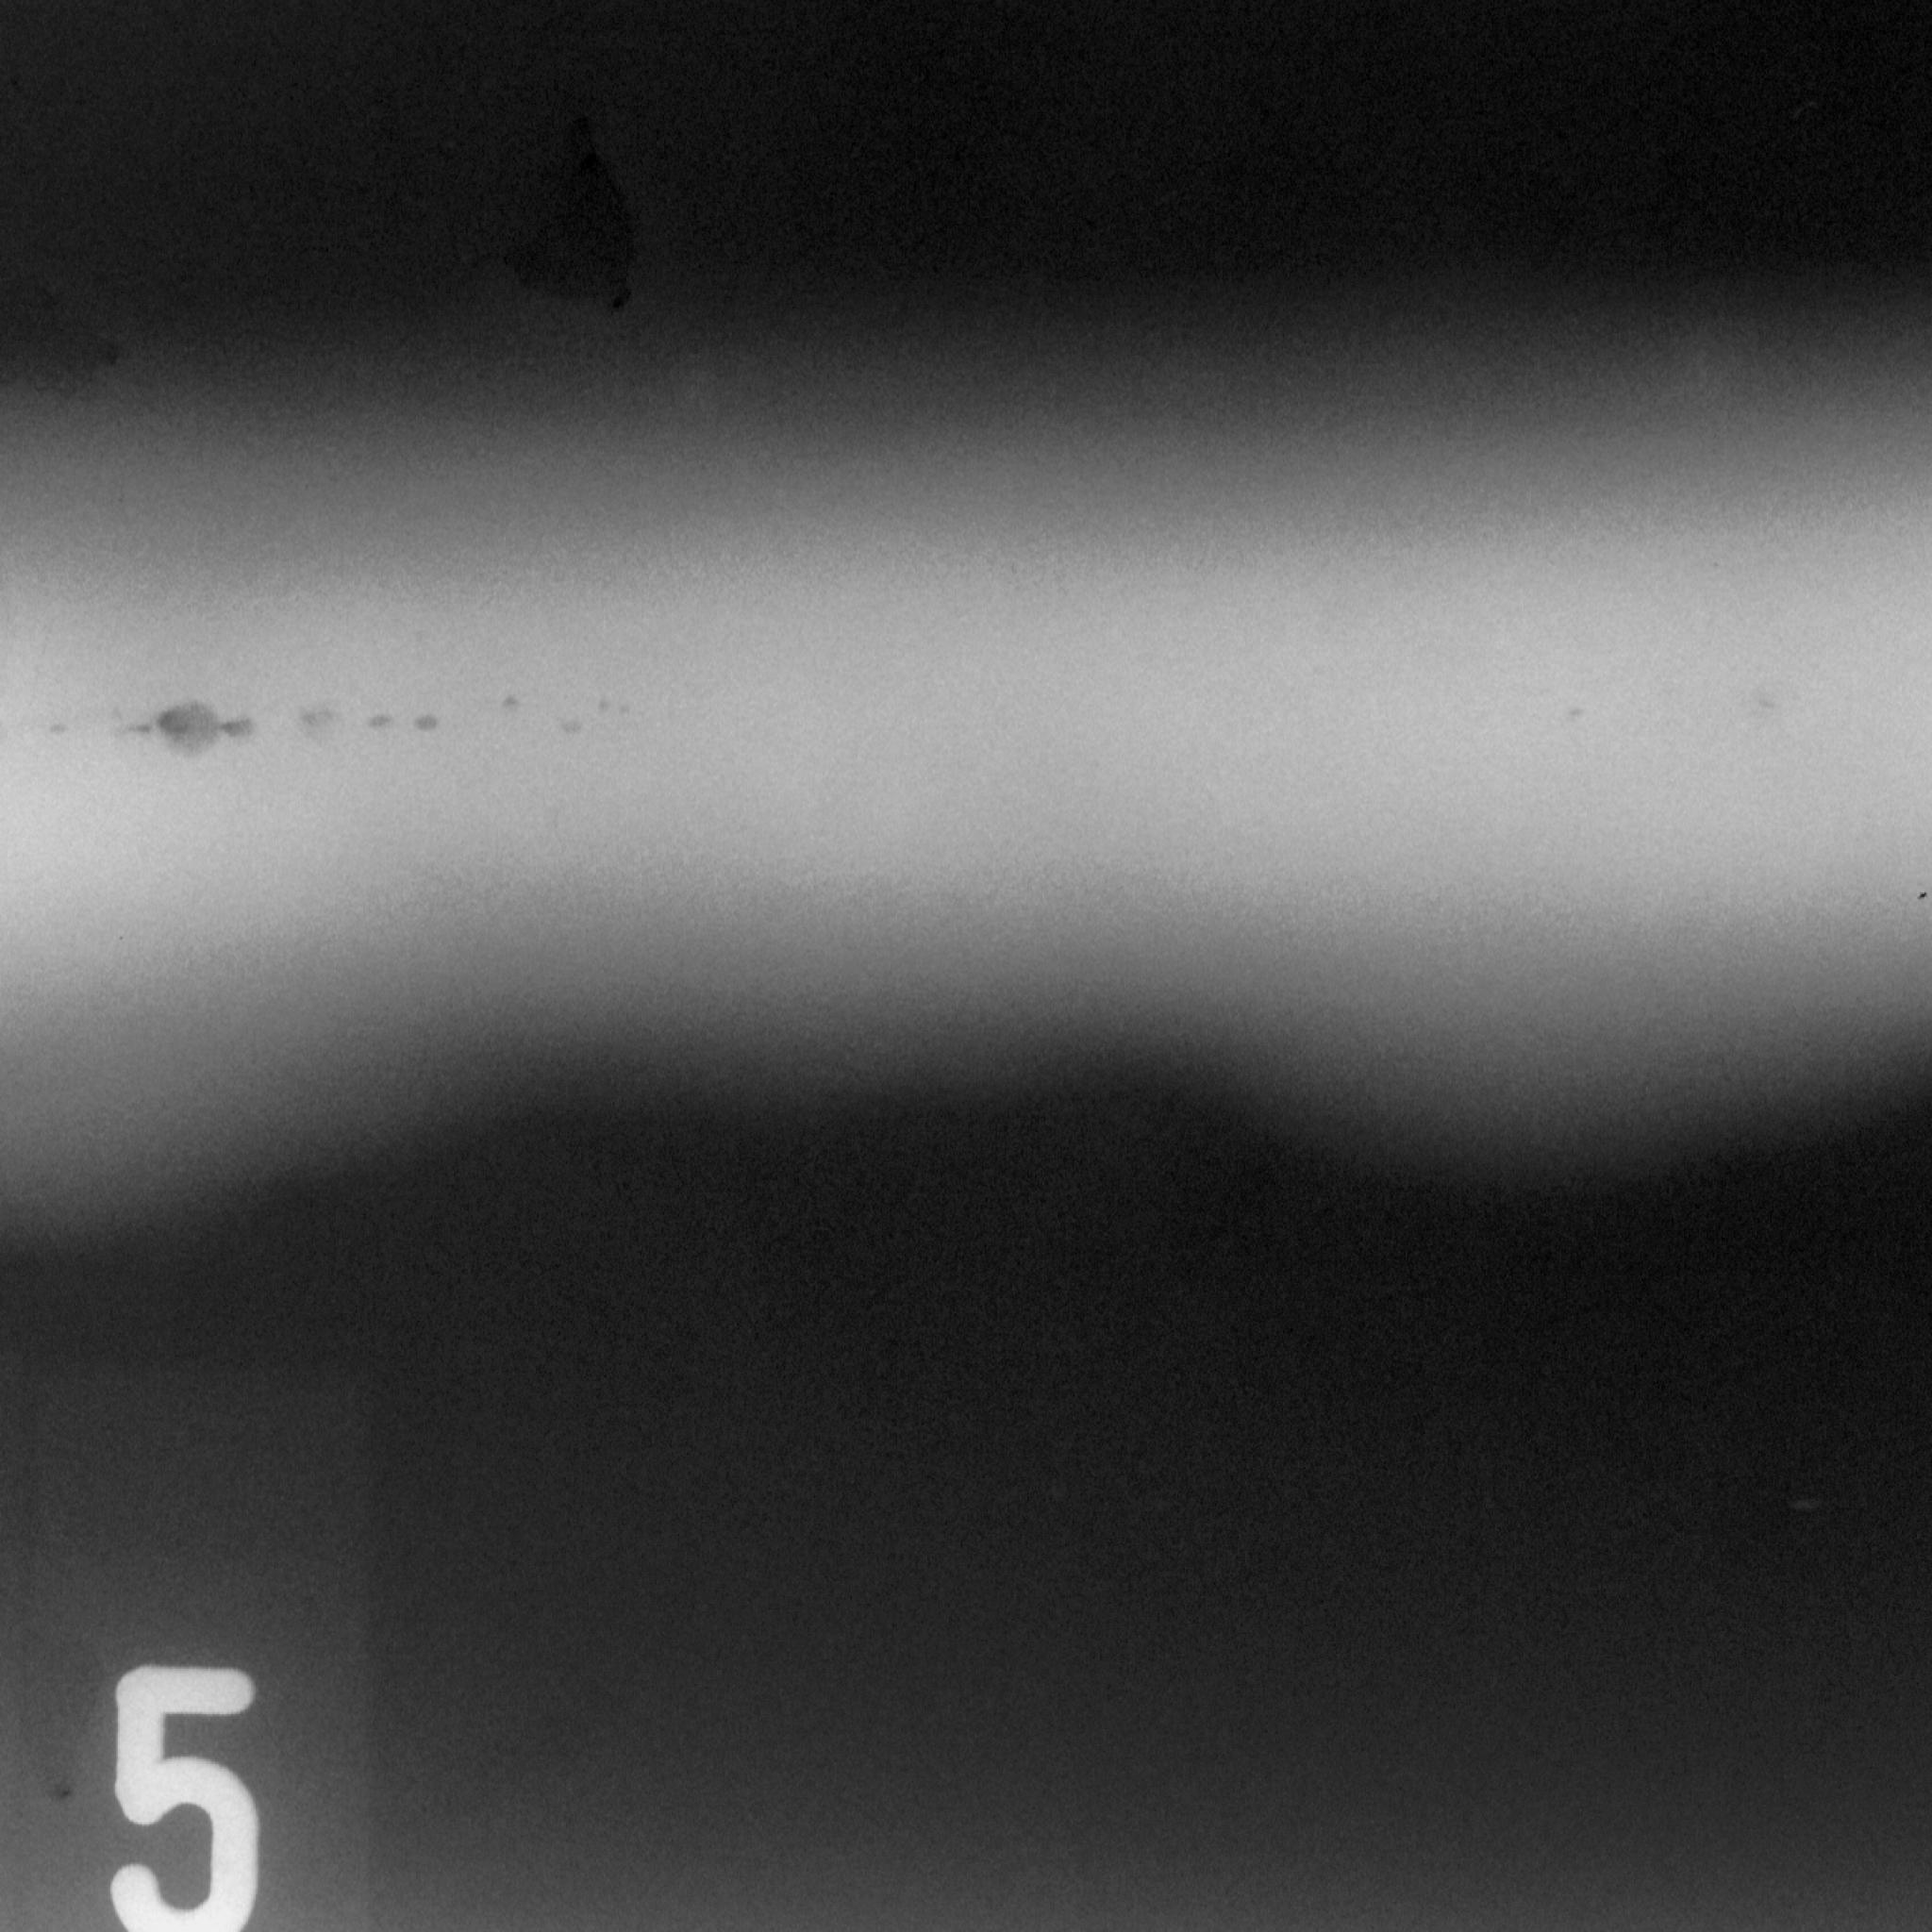IE: (36, 619, 675, 819)
PO: (1555, 701, 1598, 732), (1911, 884, 1930, 910)
